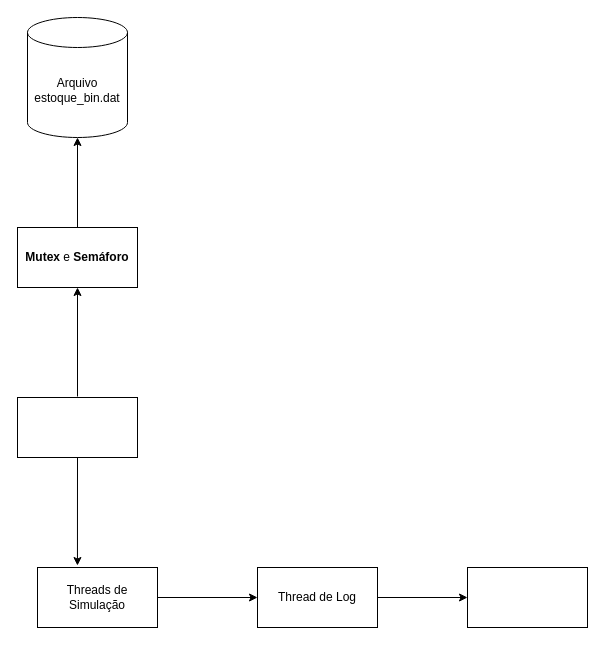
Some shapes in this 605 by 645 pixel diagram are drawn without their labels. Each missing label, with the centre of its shape:
"Interface (Menu CLI)" goes at point 77,427.
"Thread de Persistência" goes at point 527,597.
